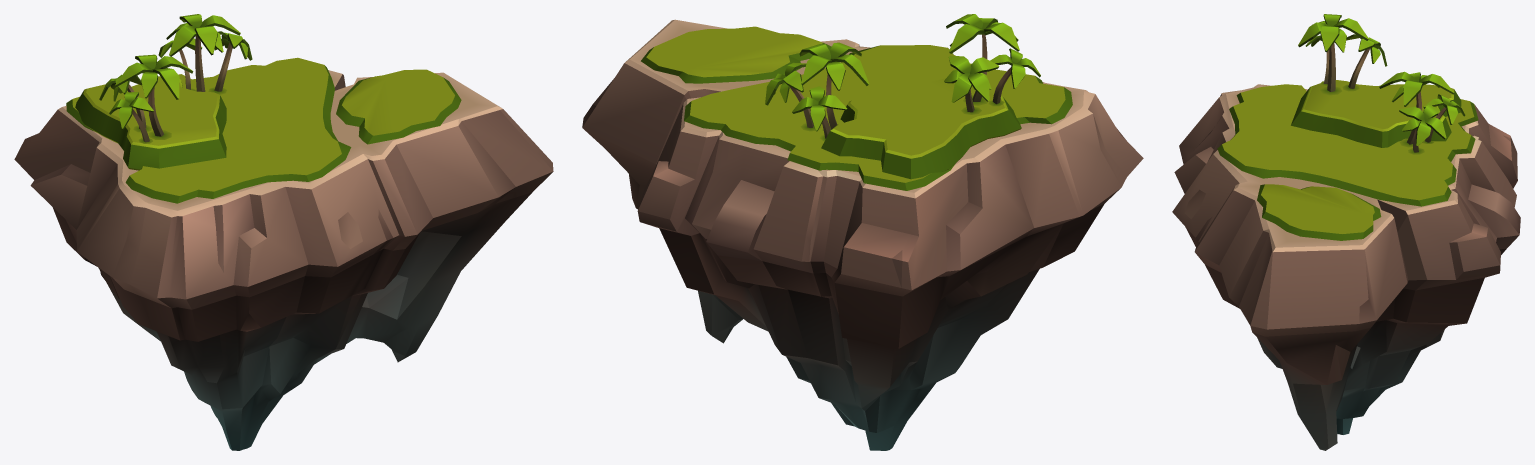
The model's file is Pirate_Mid_Island_2.fbx.
3 renders of one model, left to right at view 1: azimuth 30°, elevation 25°; view 2: azimuth 150°, elevation 25°; view 3: azimuth 270°, elevation 25°, orthographic. The views are drawn at different scales.
Parts seen in each view (by area): view 1: Plane.008, Plane.013, Plane.042, Plane.033, Plane.044, Plane.034, Plane.043; view 2: Plane.008, Plane.013, Plane.033, Plane.043, Plane.042, Plane.034, Plane.035, Plane.044; view 3: Plane.008, Plane.013, Plane.042, Plane.033, Plane.034, Plane.043, Plane.035.
Part boxes in pixels (x1,y1,x2,y2): Plane.008: (14,70,553,450); Plane.013: (66,57,461,203); Plane.042: (115,54,193,139); Plane.033: (166,14,240,91); Plane.044: (109,92,153,143); Plane.034: (208,31,252,94); Plane.043: (99,71,151,132); Plane.008: (582,19,1143,450); Plane.013: (641,26,1072,190); Plane.033: (799,42,868,131); Plane.043: (944,56,999,114); Plane.042: (946,14,1019,105); Plane.034: (765,62,821,131); Plane.035: (792,86,847,141); Plane.044: (988,48,1040,106); Plane.008: (1172,84,1520,450); Plane.013: (1217,80,1478,240); Plane.042: (1298,14,1368,95); Plane.033: (1379,71,1454,147); Plane.034: (1399,104,1446,154); Plane.043: (1342,34,1387,91); Plane.035: (1422,94,1465,143).
Bounding box in the file's own units: 83.15 × 72.63 × 61.76.
